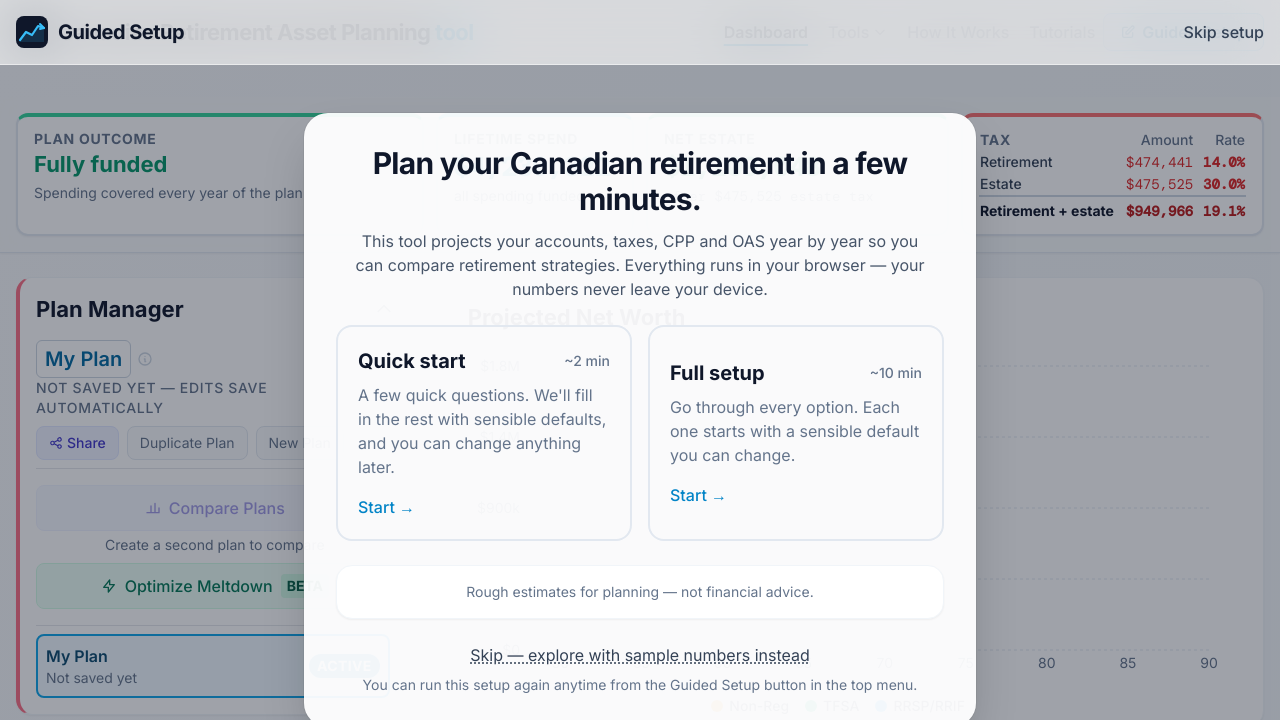
Test: App activation state machine › epoch: Skip from the intro leaves Dashboard unmounted (no re-simulation)
The image size is (1280, 720).
Click the button "Skip — explore with sample numbers instead".
click(640, 655)  # box [470, 643, 810, 667]
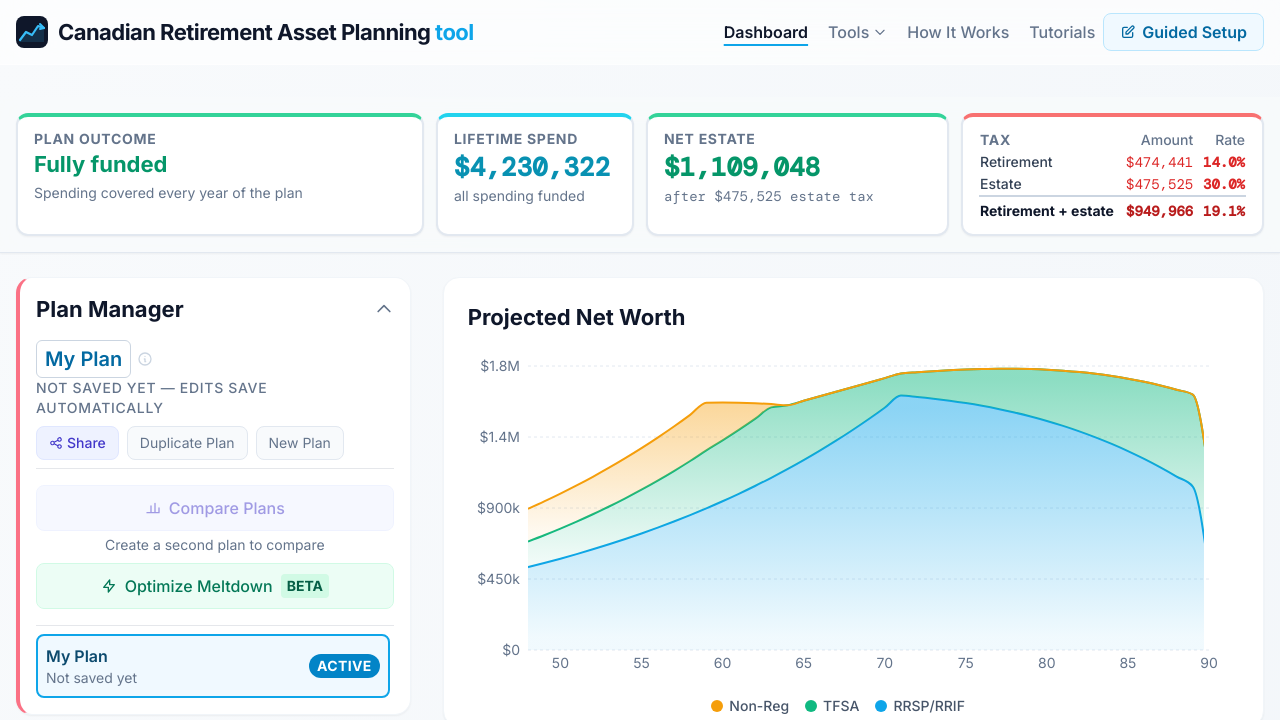
Now the dialog is gone
